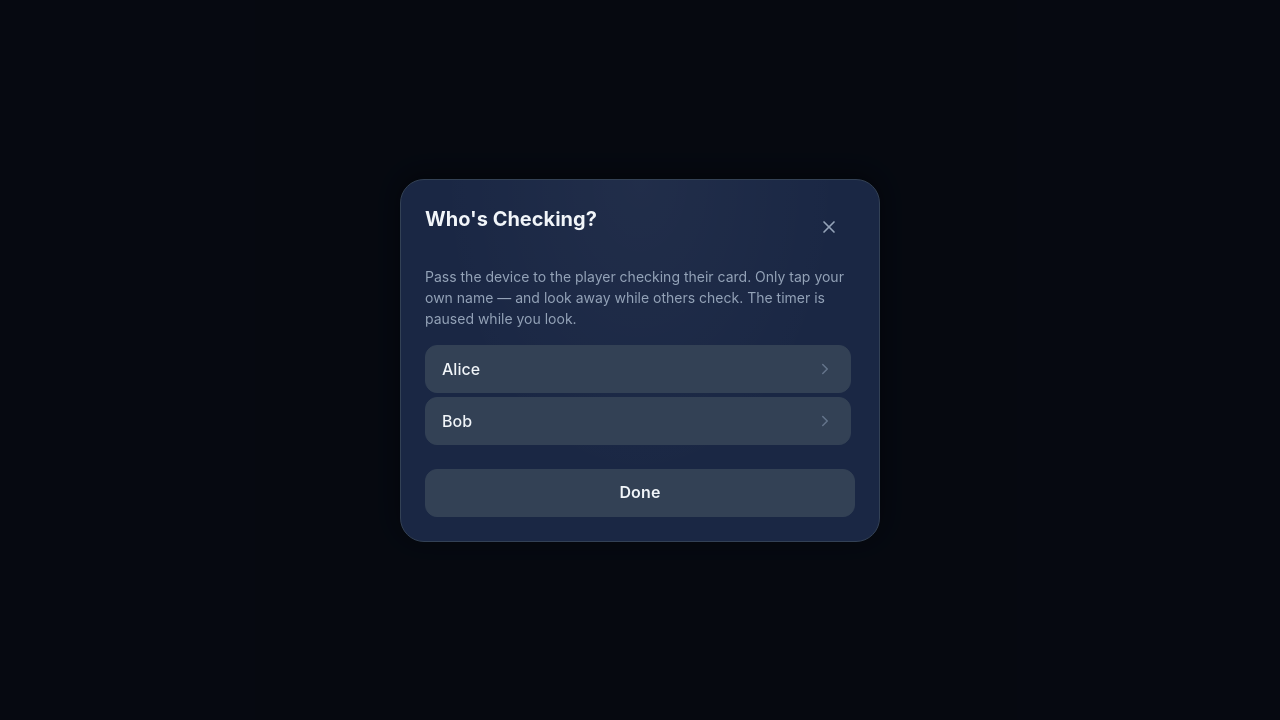
Test: RoleReviewModal › shows the secret word to a regular player
The image size is (1280, 720).
Click the button "Alice": (461, 368) [425, 344, 851, 392]
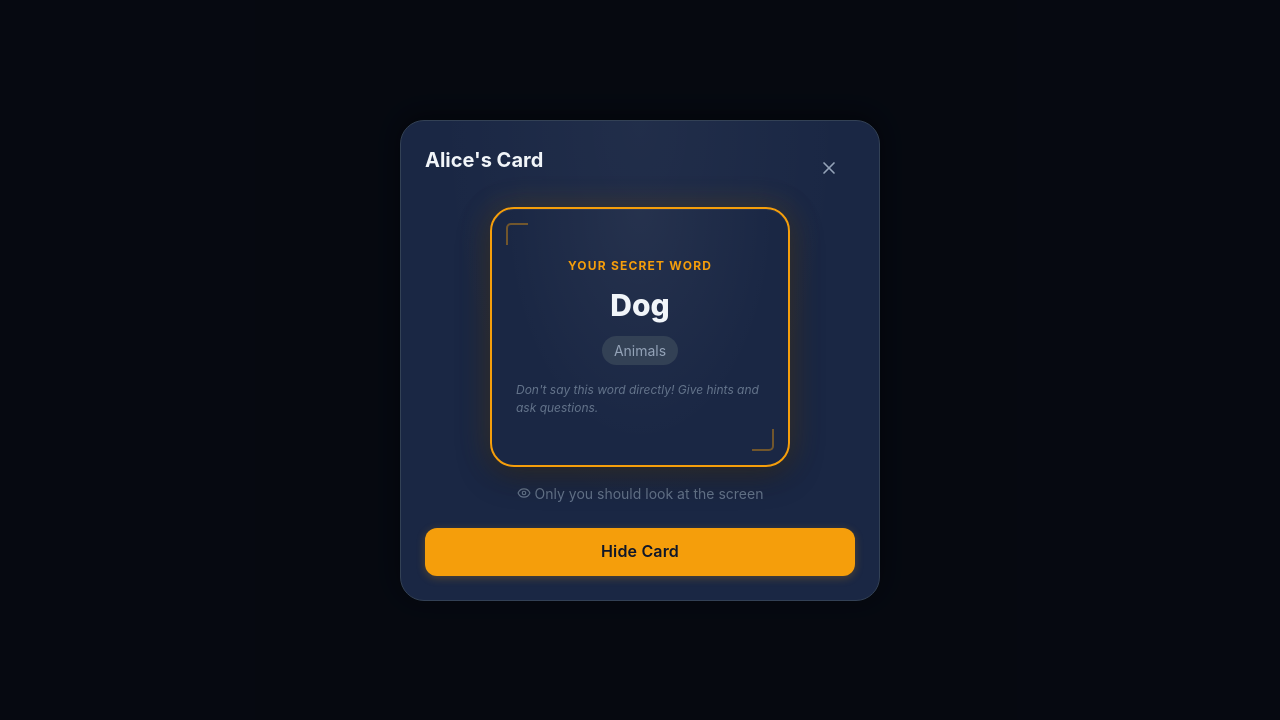
Expected: the heading "Alice's Card" is shown, [425, 144, 543, 174]
Expected: the text "Your Secret Word" is shown, [568, 256, 712, 274]
Expected: the text "Dog" is shown, [610, 282, 670, 328]
